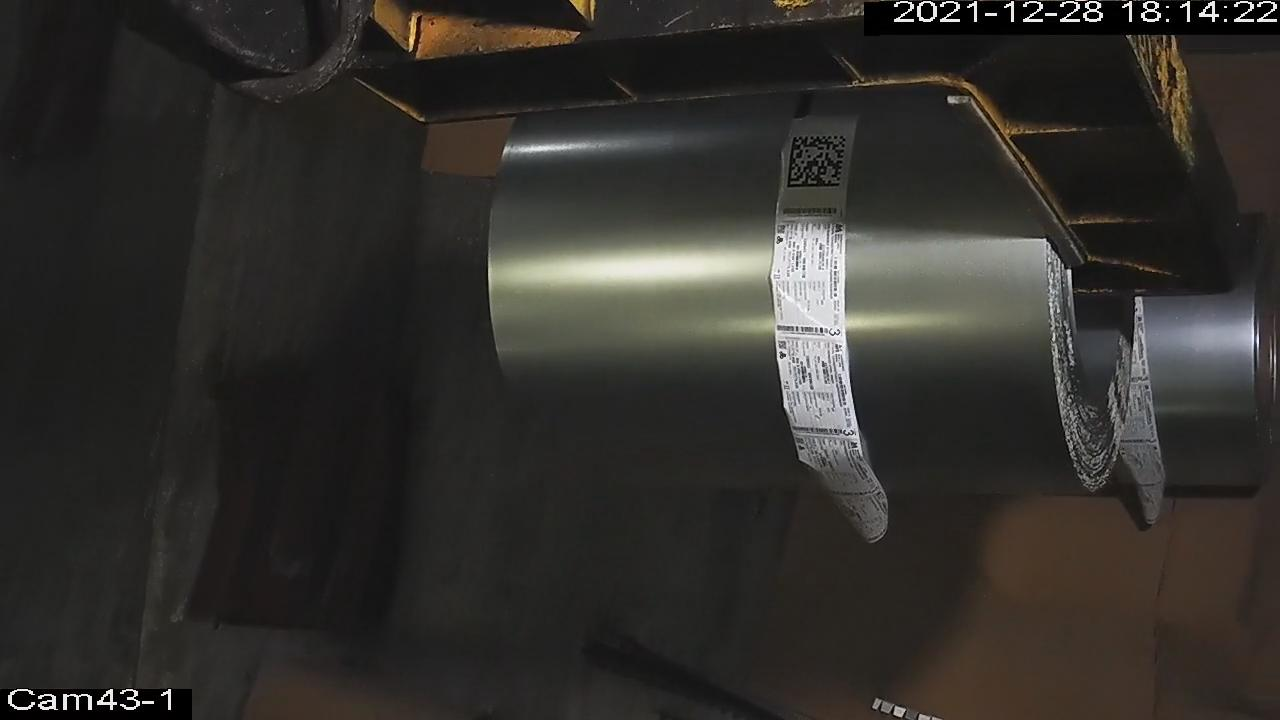data matrix: (784, 132, 851, 194)
